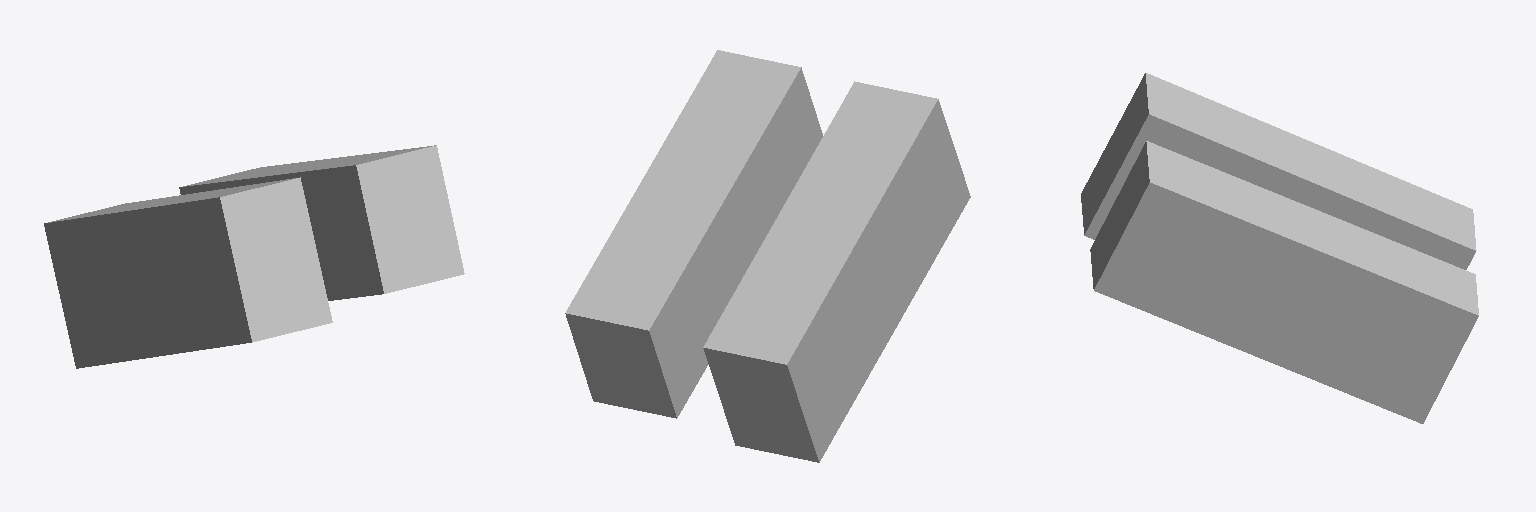
Rendered from Fixed_pausebutton.obj.
3 views of the same model, side by side, from view 1: azimuth 30°, elevation 25°; view 2: azimuth 150°, elevation 25°; view 3: azimuth 270°, elevation 25° (orthographic).
Parts seen in each view (by area): view 1: pCube4 pCube2, pCube4; view 2: pCube4 pCube2, pCube4; view 3: pCube4, pCube4 pCube2.
Boxes of the visible parts, box(x1,y1,x2,y2) form: pCube4 pCube2: box(44, 177, 332, 368); pCube4: box(179, 145, 464, 300); pCube4 pCube2: box(703, 81, 970, 462); pCube4: box(565, 50, 822, 418); pCube4: box(1090, 141, 1478, 423); pCube4 pCube2: box(1081, 73, 1476, 269).
Bounding box in the file's own units: 0.08 × 0.088 × 0.1193.